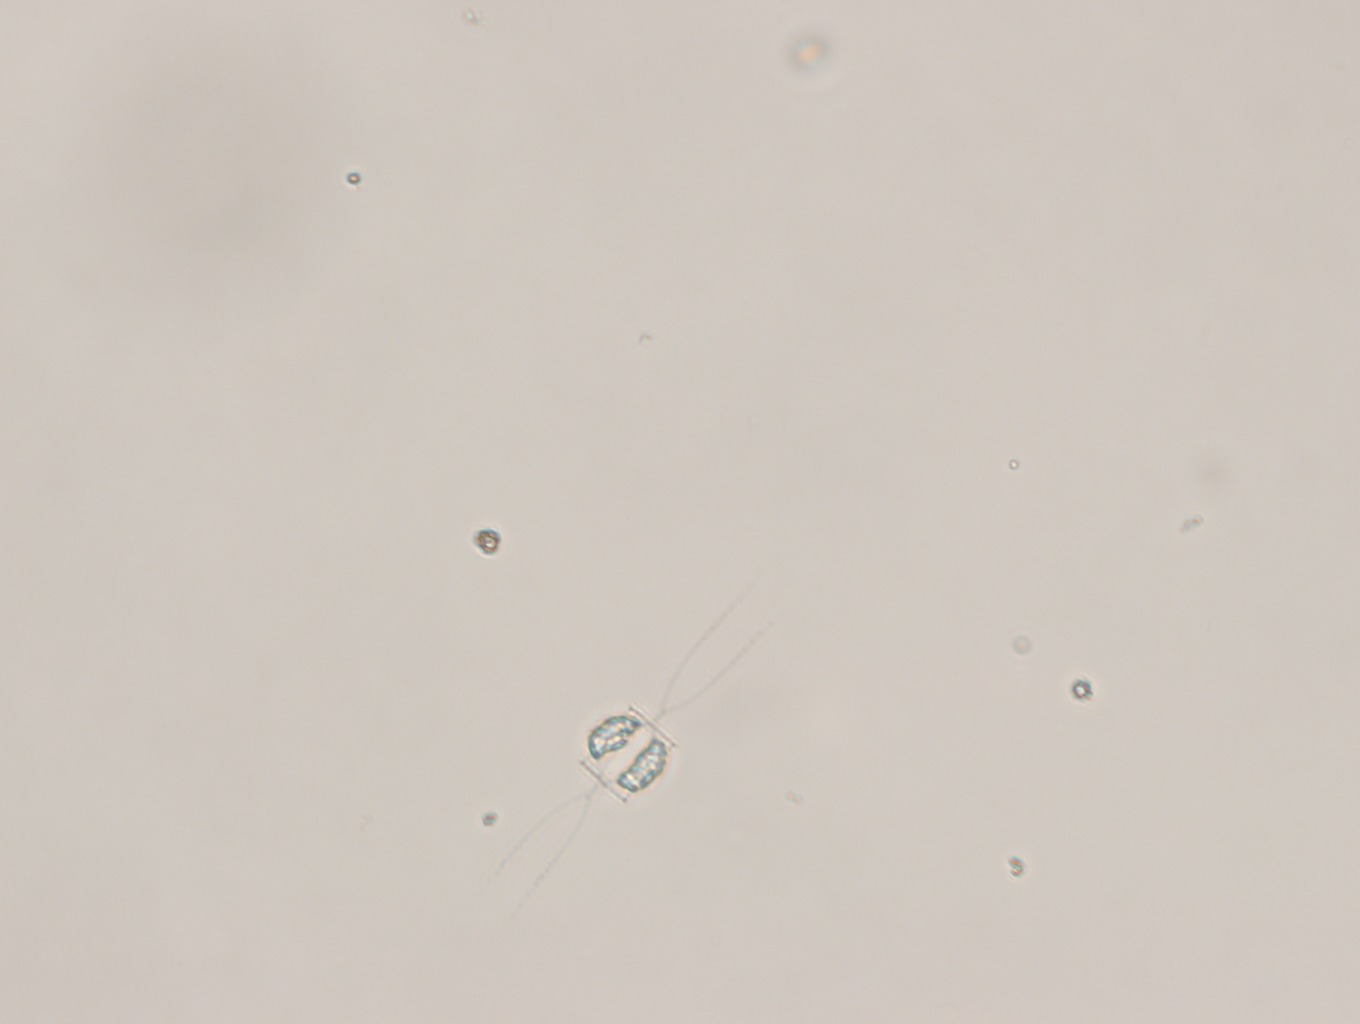chaetoceros: (492, 583, 773, 898)
